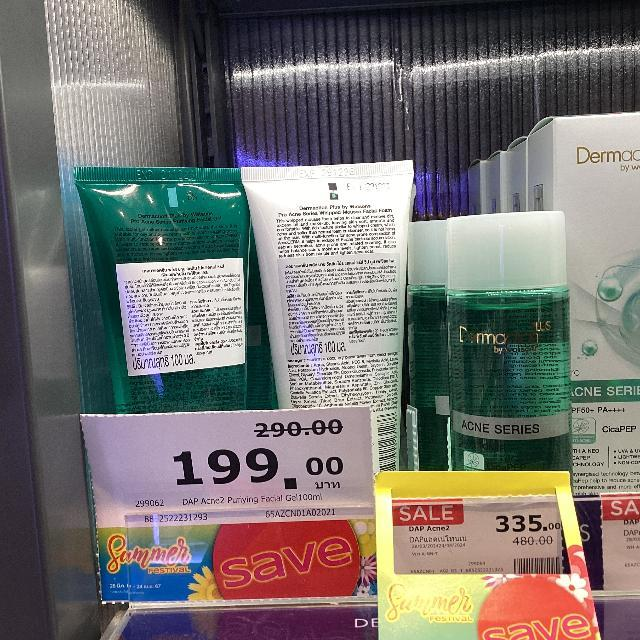Squeeze Tube: (62, 143, 438, 533), (240, 171, 414, 413), (78, 167, 235, 404), (111, 171, 232, 402)
